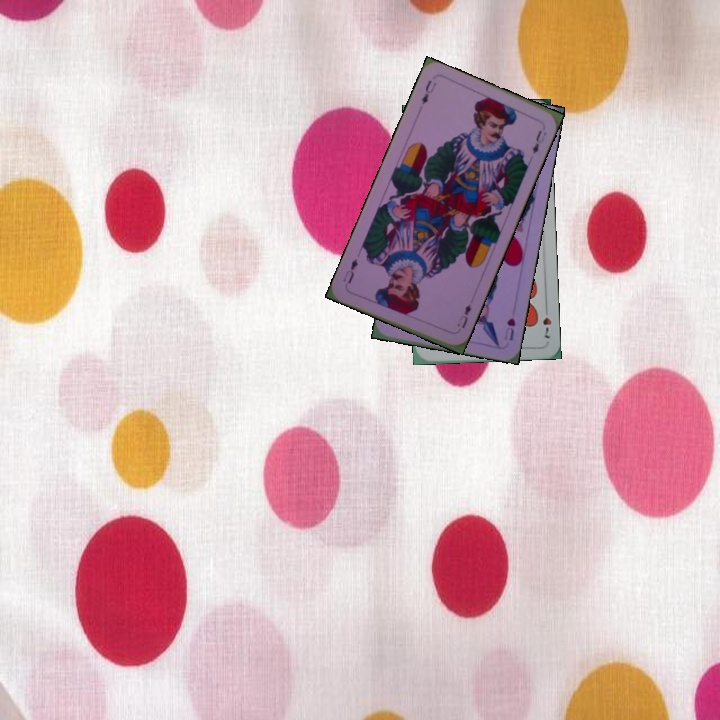EU: (417, 76, 439, 107), (453, 300, 474, 331)
H7: (539, 302, 554, 342)
HU: (500, 314, 518, 343)
